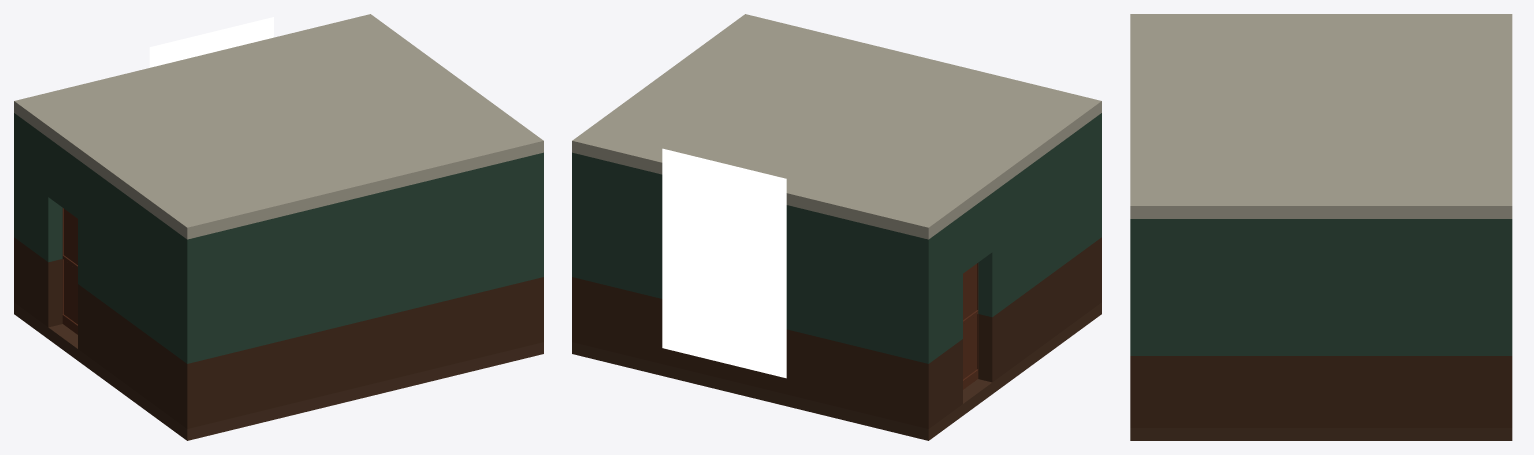
Rendered from room_office.glb.
3 views of the same model, side by side, from view 1: azimuth 30°, elevation 25°; view 2: azimuth 150°, elevation 25°; view 3: azimuth 270°, elevation 25° (orthographic). The views are drawn at different scales.
Parts seen in each view (by area): view 1: wall_s, ceiling, wall_w, floor, sky_card, wall_n, IA_door_gallery; view 2: ceiling, wall_n, wall_w, sky_card, floor, wall_s, IA_door_gallery; view 3: ceiling, wall_e, floor, wall_n, wall_s.
Part boxes in pixels (box(x1,y1,x2,y2)): wall_s: box(179, 152, 543, 428); ceiling: box(14, 14, 543, 239); wall_w: box(22, 119, 178, 422); floor: box(14, 302, 543, 440); sky_card: box(149, 17, 273, 67); wall_n: box(14, 113, 22, 307); IA_door_gallery: box(64, 209, 77, 324); ceiling: box(572, 14, 1101, 239); wall_n: box(572, 152, 936, 428); wall_w: box(937, 119, 1093, 422); sky_card: box(662, 148, 786, 378); floor: box(572, 302, 1101, 440); wall_s: box(1093, 113, 1101, 307); IA_door_gallery: box(963, 264, 976, 379); ceiling: box(1130, 14, 1512, 218); wall_e: box(1148, 219, 1494, 427); floor: box(1130, 428, 1512, 440); wall_n: box(1494, 219, 1512, 427); wall_s: box(1130, 219, 1148, 427).
Bounding box in the file's own units: 6.3 × 3.89 × 5.4.
